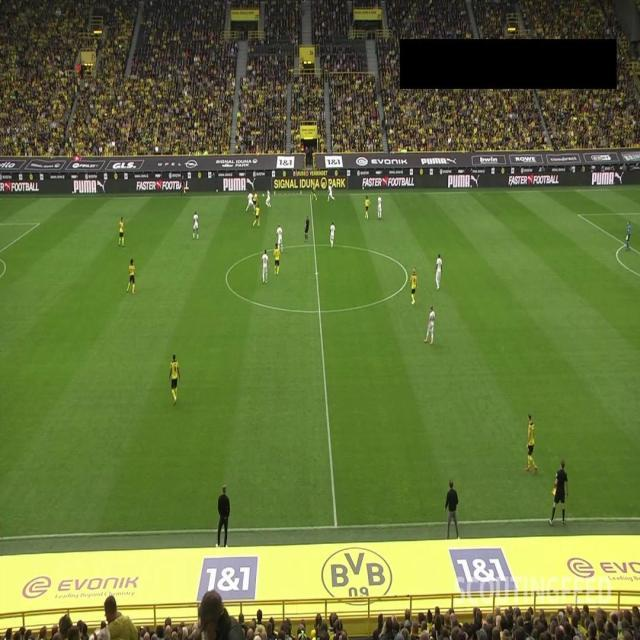ball: (262, 193, 265, 199)
goalkeeper: (625, 220, 632, 252)
player: (525, 413, 539, 475), (169, 355, 182, 406), (424, 305, 436, 345), (127, 258, 137, 294), (261, 249, 270, 285), (410, 268, 418, 306), (435, 253, 443, 291), (273, 243, 281, 276), (276, 223, 284, 253), (246, 191, 256, 213), (118, 217, 125, 247), (253, 201, 261, 227), (193, 211, 200, 240), (330, 221, 336, 249), (311, 179, 318, 202), (327, 182, 335, 202), (377, 194, 383, 220), (252, 191, 259, 213), (365, 195, 371, 220), (266, 190, 272, 209)
referee: (549, 457, 569, 527), (304, 216, 310, 243), (180, 173, 186, 196)
